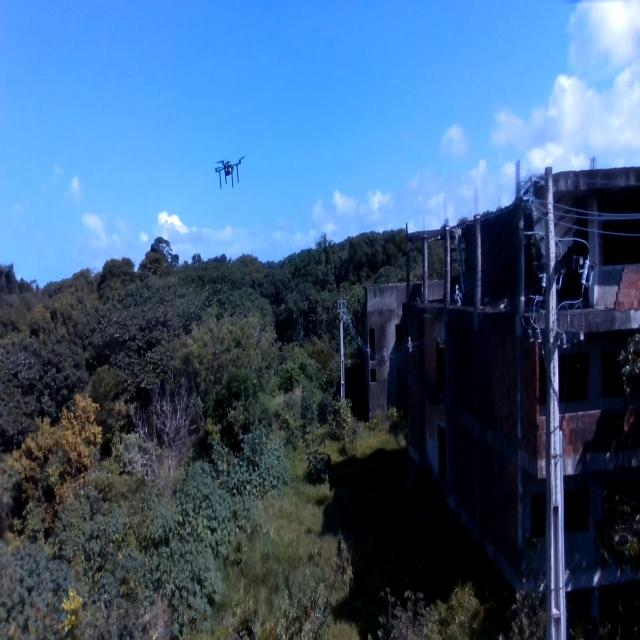-uav-: (208, 144, 254, 206)
